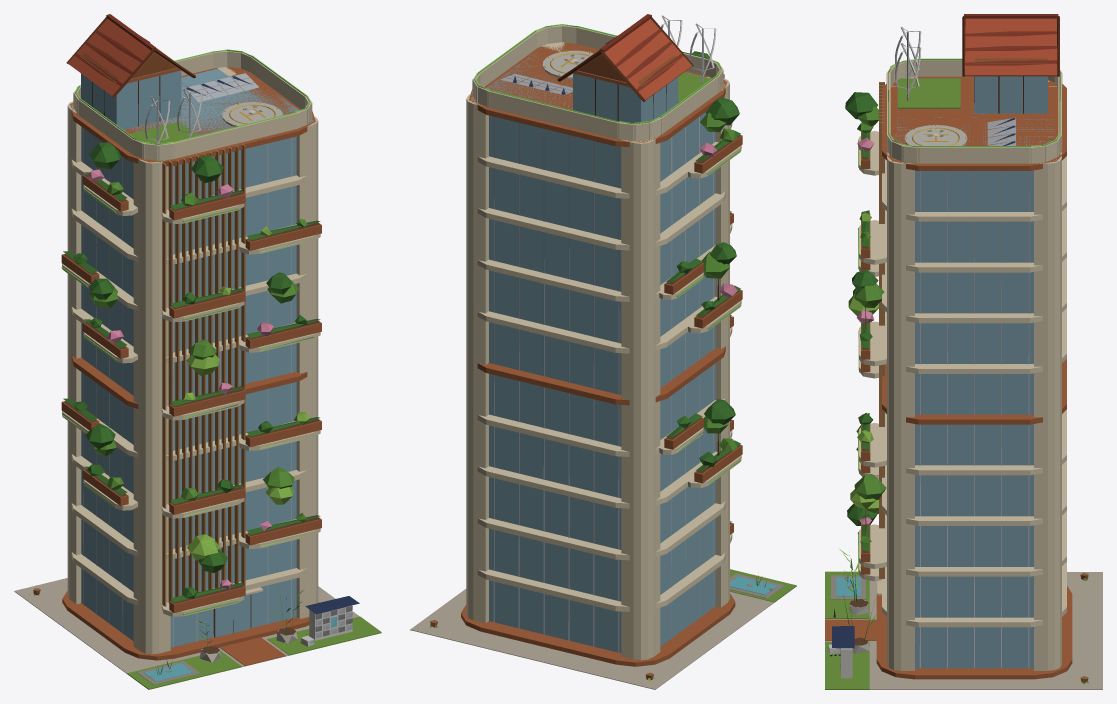
Rendered from home_4.glb.
The picture shows the model from 3 angles, left to right: view 1: azimuth 30°, elevation 25°; view 2: azimuth 150°, elevation 25°; view 3: azimuth 270°, elevation 25°; orthographic projection. The views are drawn at different scales.
Parts seen in each view (by area): view 1: body, windows; view 2: body, windows; view 3: body, windows.
Part boxes in pixels (x1,y1,x2,y2): body: (14,14,381,689); windows: (61,49,337,643); body: (410,14,796,689); windows: (474,24,741,484); body: (825,14,1102,689); windows: (828,58,1060,656).
Size of the model in its own units: 15.96 by 37.73 by 15.9.
